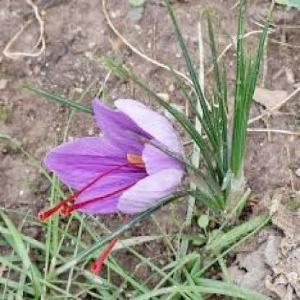Saffron: (45, 100, 193, 214)
